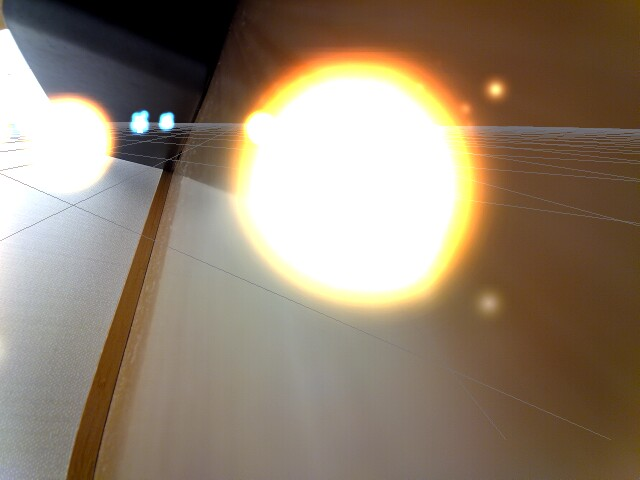firebig: (232, 38, 479, 316)
